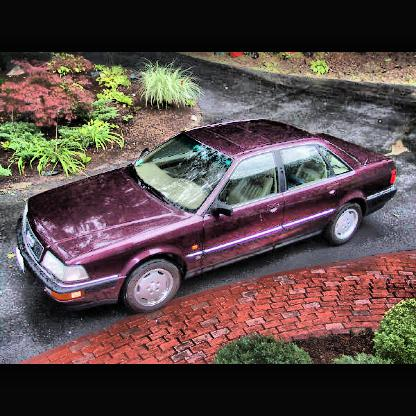Audi V8 Sedan 1994: (17, 122, 401, 316)
